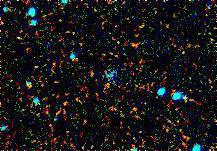star: (172, 90, 202, 120)
